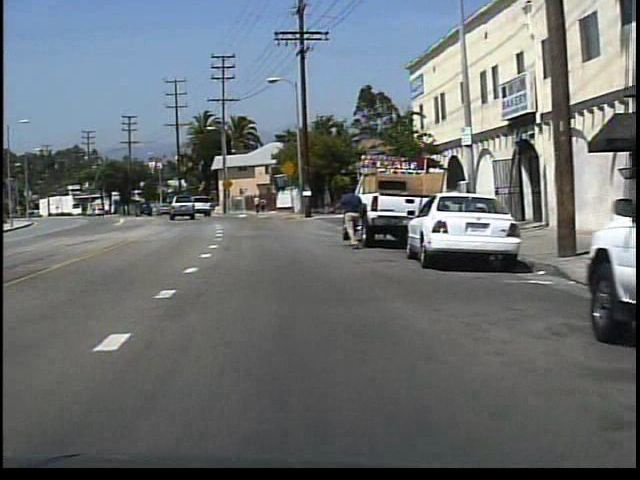person: (335, 183, 366, 252), (252, 195, 262, 217), (258, 197, 269, 216)
